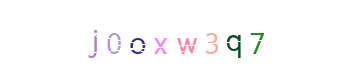0: (97, 0, 177, 80)
3: (185, 0, 265, 80)
7: (217, 0, 297, 80)
J: (77, 0, 157, 80)
O: (120, 0, 200, 80)
Q: (195, 0, 275, 80)
W: (157, 0, 237, 80)
X: (140, 0, 220, 80)
